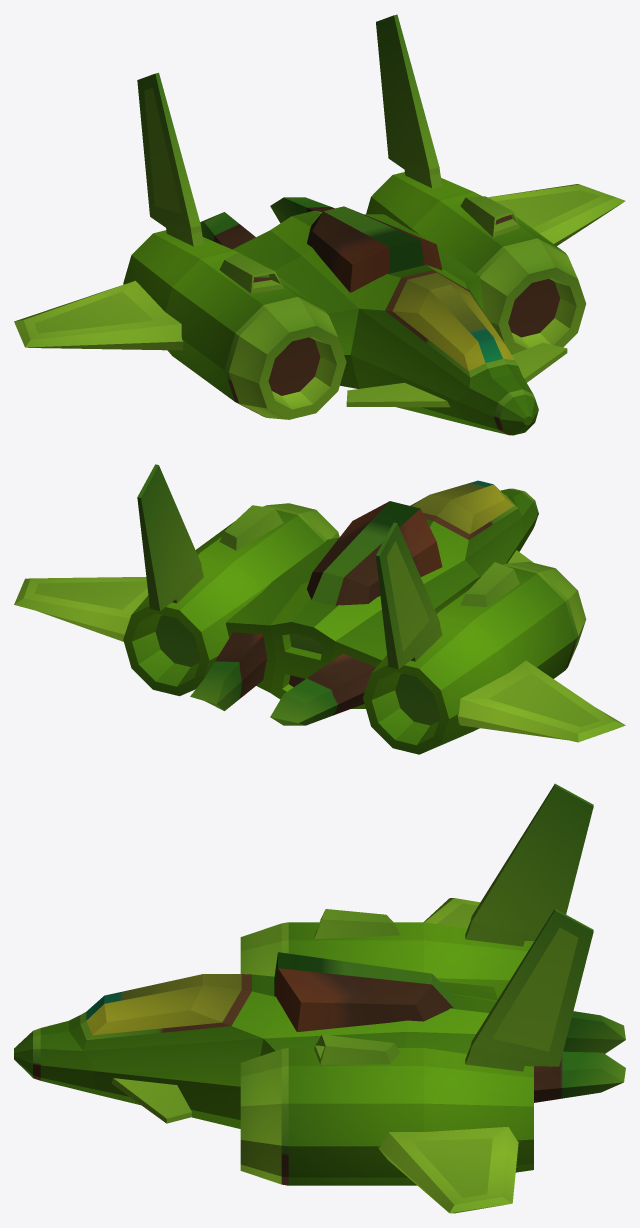
File: aircraft-i_003.fbx
3 renders of one model, top to bottom at view 1: azimuth 30°, elevation 25°; view 2: azimuth 150°, elevation 25°; view 3: azimuth 270°, elevation 25°, orthographic. The views are drawn at different scales.
Visible parts, largest first — view 1: aircraft-i.003; view 2: aircraft-i.003; view 3: aircraft-i.003.
Part boxes in pixels (bbox=[...]): aircraft-i.003: bbox=[14, 14, 625, 435]; aircraft-i.003: bbox=[14, 464, 625, 754]; aircraft-i.003: bbox=[14, 783, 625, 1213].
Size of the model in its own units: 1234 by 506 by 1013.
